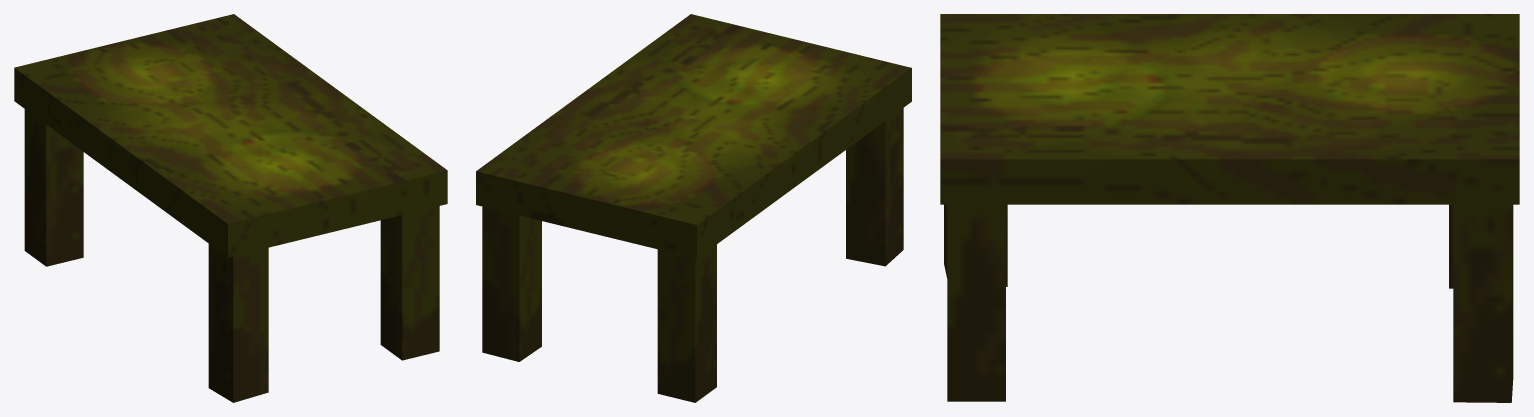
Rendered from table.obj.
3 renders of one model, left to right at view 1: azimuth 30°, elevation 25°; view 2: azimuth 150°, elevation 25°; view 3: azimuth 270°, elevation 25°, orthographic. The views are drawn at different scales.
Visible parts, largest first — view 1: platte; view 2: platte; view 3: platte.
Part boxes in pixels (x1,y1,x2,y2): platte: (14, 14, 447, 402); platte: (476, 14, 911, 402); platte: (940, 14, 1519, 402).
Size of the model in its own units: 1.9 by 1.5 by 3.2.
